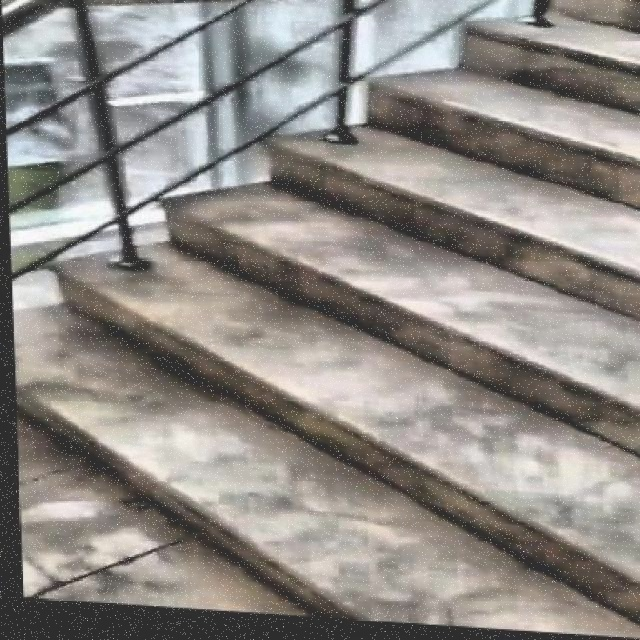stair: (2, 0, 640, 640)
